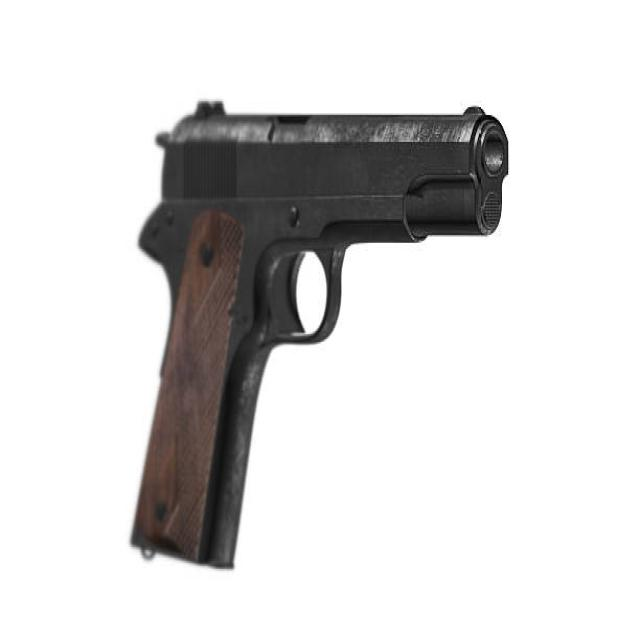pistol: (120, 90, 518, 582)
